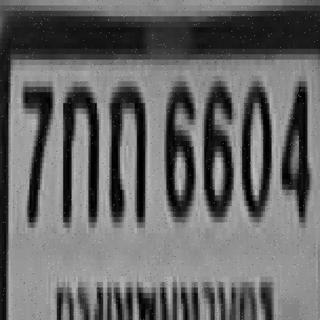A01: (61, 81, 97, 222)
A22: (107, 79, 143, 220)
N00: (240, 76, 270, 217)
N04: (280, 76, 307, 217)
N06: (202, 76, 232, 212), (164, 76, 192, 217)
N07: (21, 81, 51, 222)
